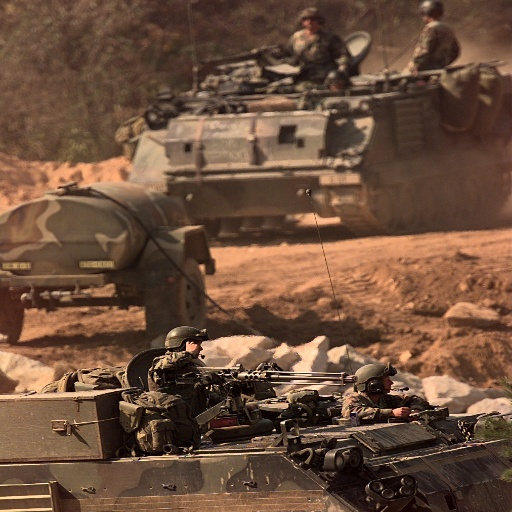hand: (184, 339, 198, 353), (394, 407, 408, 417)
